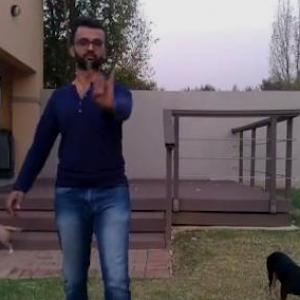takeoff-hand: (88, 61, 121, 112)
